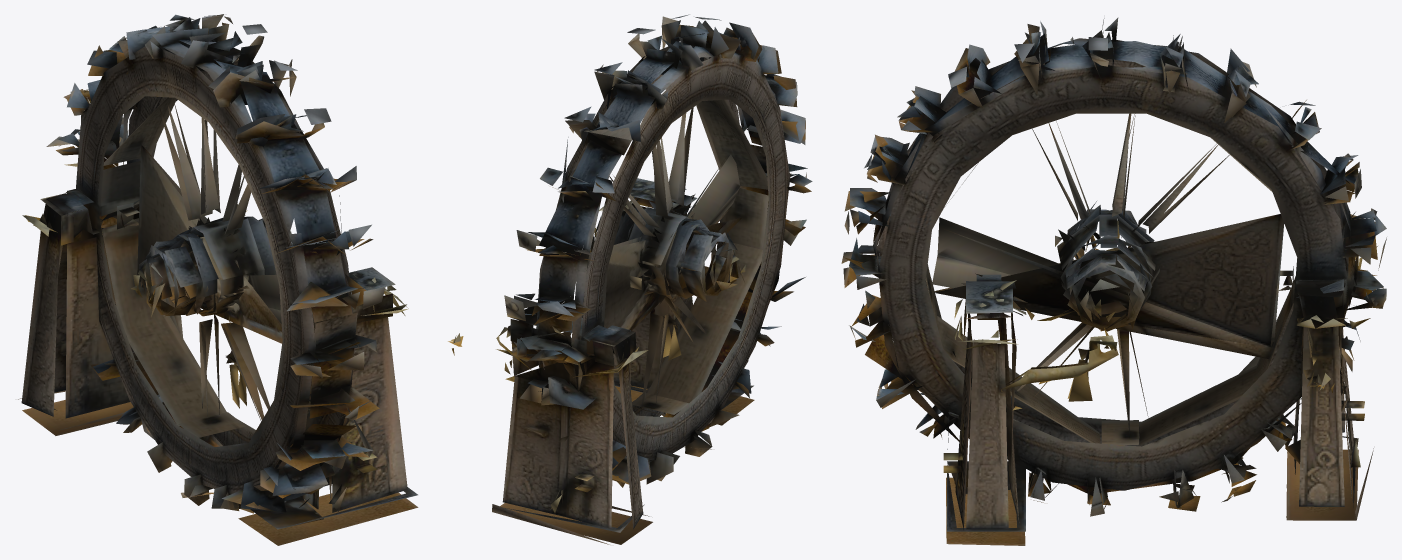
The model's file is ch6_great_hydraulic_wheel_LOD3.glb.
The picture shows the model from 3 angles, left to right: view 1: azimuth 30°, elevation 25°; view 2: azimuth 150°, elevation 25°; view 3: azimuth 270°, elevation 25°; orthographic projection. The views are drawn at different scales.
Visible parts, largest first — view 1: tripo_node_3a9f80ba-cd3d-47f6-89a2-44492e5448fd; view 2: tripo_node_3a9f80ba-cd3d-47f6-89a2-44492e5448fd; view 3: tripo_node_3a9f80ba-cd3d-47f6-89a2-44492e5448fd.
Part boxes in pixels (x1,y1,x2,y2): tripo_node_3a9f80ba-cd3d-47f6-89a2-44492e5448fd: (18, 14, 418, 545); tripo_node_3a9f80ba-cd3d-47f6-89a2-44492e5448fd: (448, 14, 812, 544); tripo_node_3a9f80ba-cd3d-47f6-89a2-44492e5448fd: (841, 17, 1386, 545).
Bounding box in the file's own units: 0.4827 × 0.9618 × 0.9997.
Materials: 1 (1 with a texture image).
